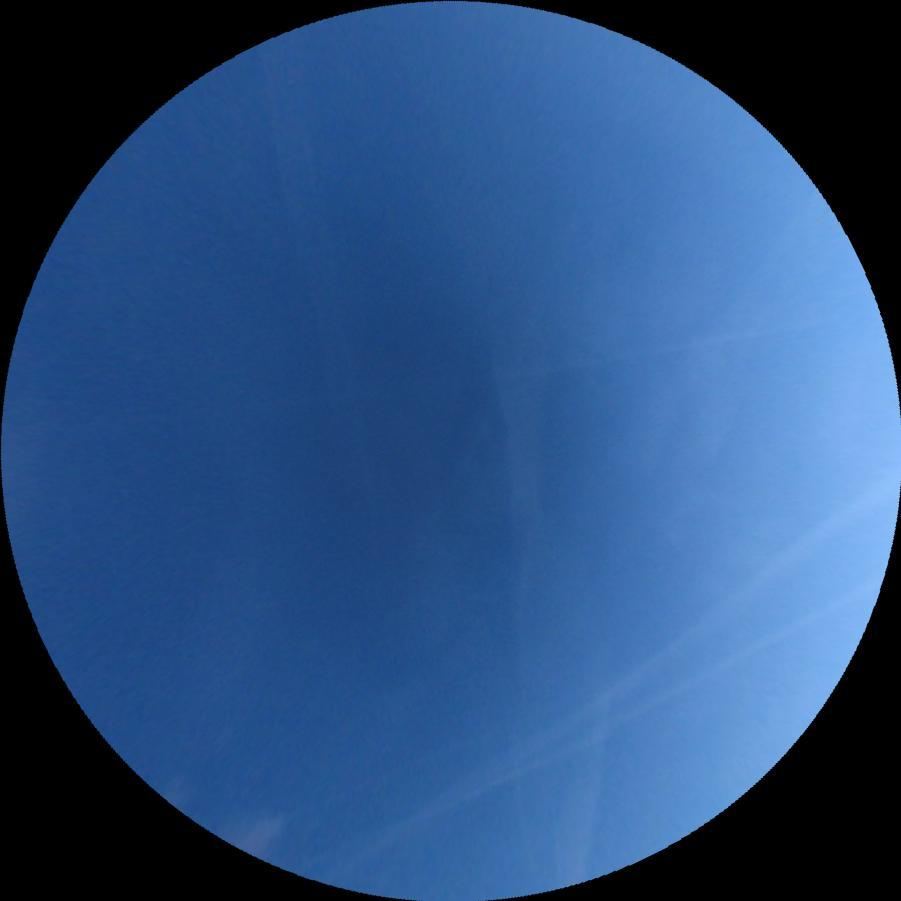contrail veryold: (298, 580, 880, 886), (24, 301, 875, 470), (258, 38, 381, 536), (483, 340, 547, 880)
unknow: (529, 641, 613, 885)
